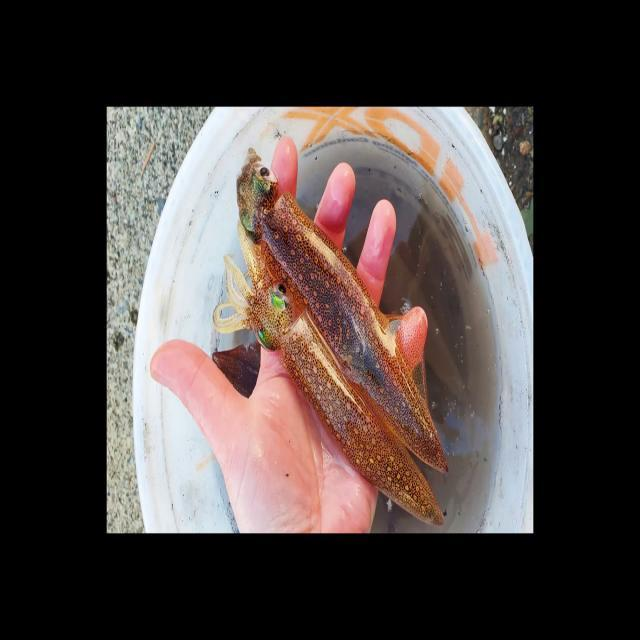squid: (233, 148, 454, 482), (214, 223, 446, 528)
